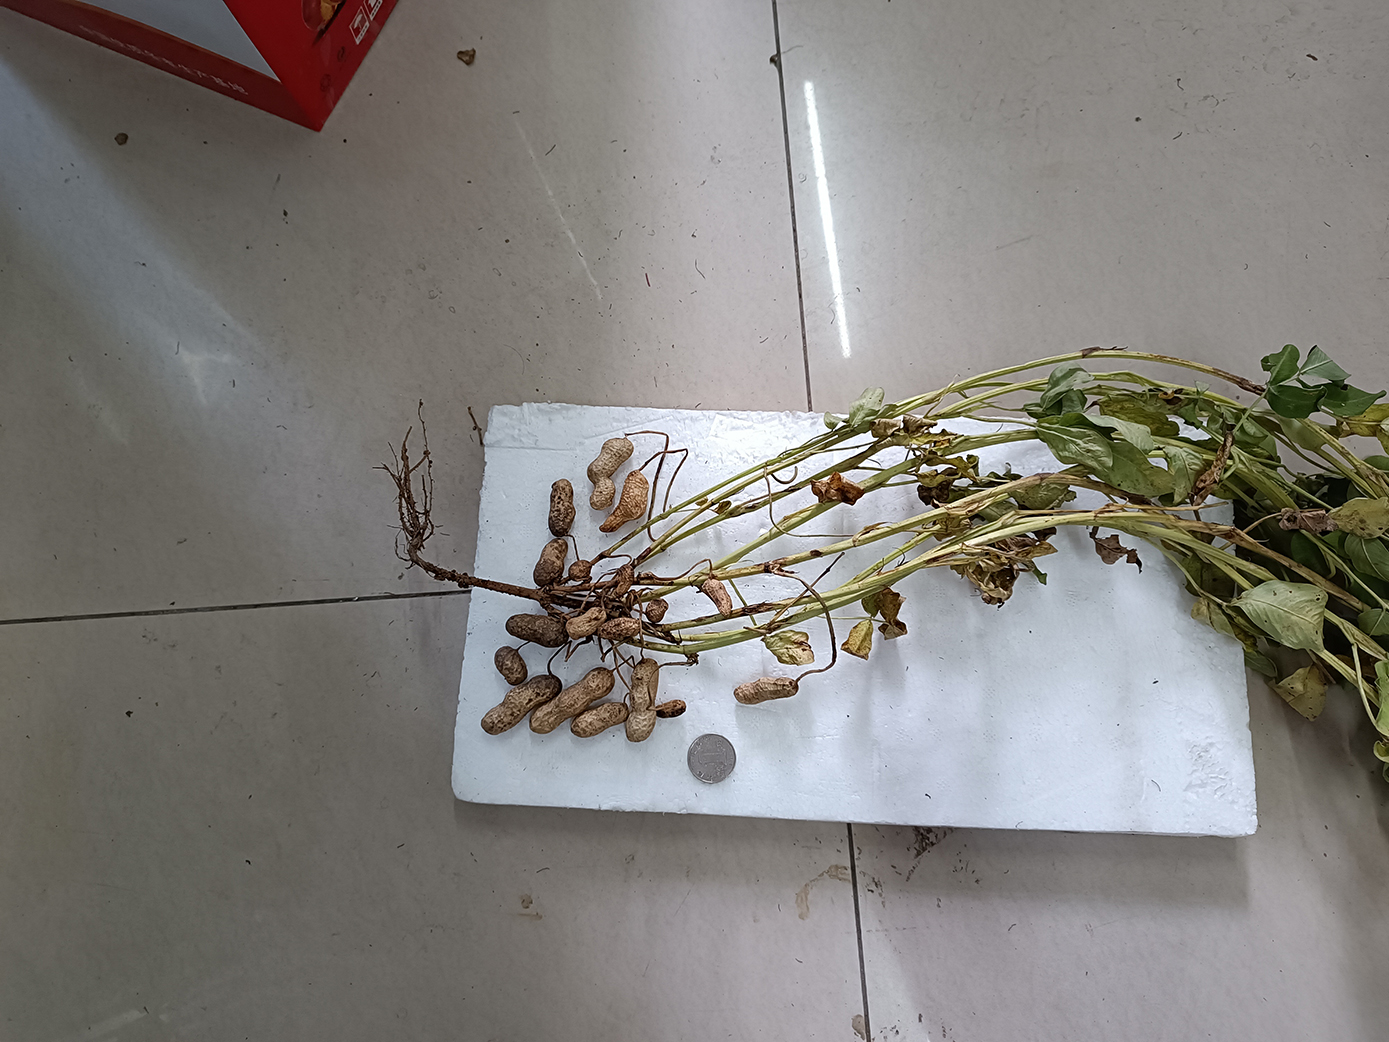h: (530, 668, 616, 734), (479, 675, 563, 736), (587, 437, 634, 511), (599, 470, 649, 533), (626, 657, 658, 744), (572, 703, 629, 739), (734, 678, 799, 705), (533, 539, 567, 588), (548, 479, 576, 536), (699, 578, 734, 622), (565, 606, 609, 640), (599, 618, 640, 642), (611, 564, 632, 601), (656, 699, 687, 719), (646, 601, 670, 622), (568, 560, 591, 581)
l: (505, 613, 568, 650), (495, 648, 528, 687)
